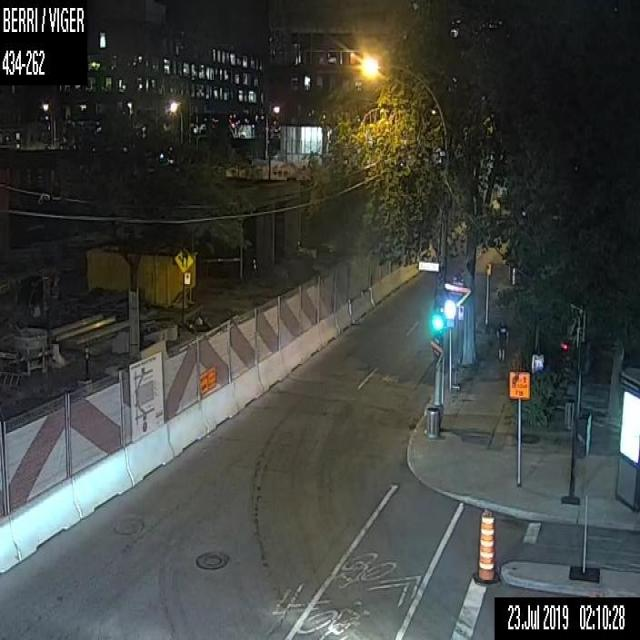construction: (506, 368, 532, 486), (476, 508, 496, 583)
pedestrian: (496, 318, 508, 358)
